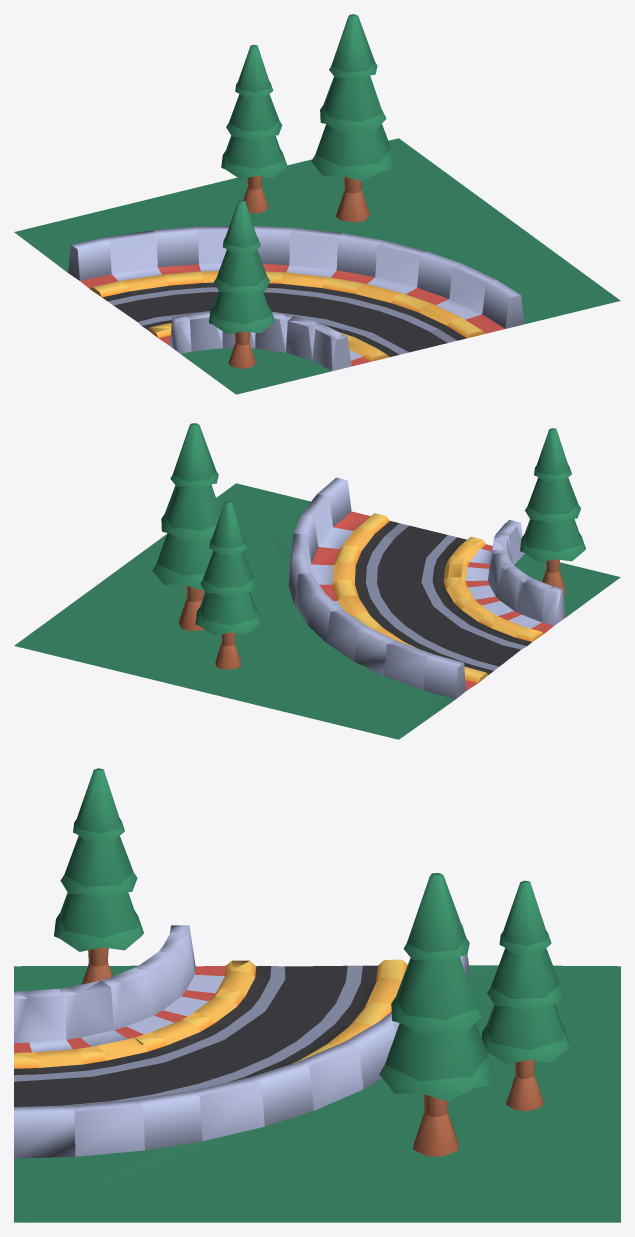
Rendered from track-thin-corner.glb.
3 views of the same model, one above another, from view 1: azimuth 30°, elevation 25°; view 2: azimuth 150°, elevation 25°; view 3: azimuth 270°, elevation 25° (orthographic). The views are drawn at different scales.
Visible parts, largest first — view 1: track-corner.005; view 2: track-corner.005; view 3: track-corner.005.
Part boxes in pixels (x1=…): track-corner.005: x1=14, y1=14, x2=620, y2=394; track-corner.005: x1=14, y1=423, x2=620, y2=739; track-corner.005: x1=14, y1=768, x2=620, y2=1222.
Bounding box in the file's own units: 10.04 × 4.94 × 10.
2 materials, 2 textured.
